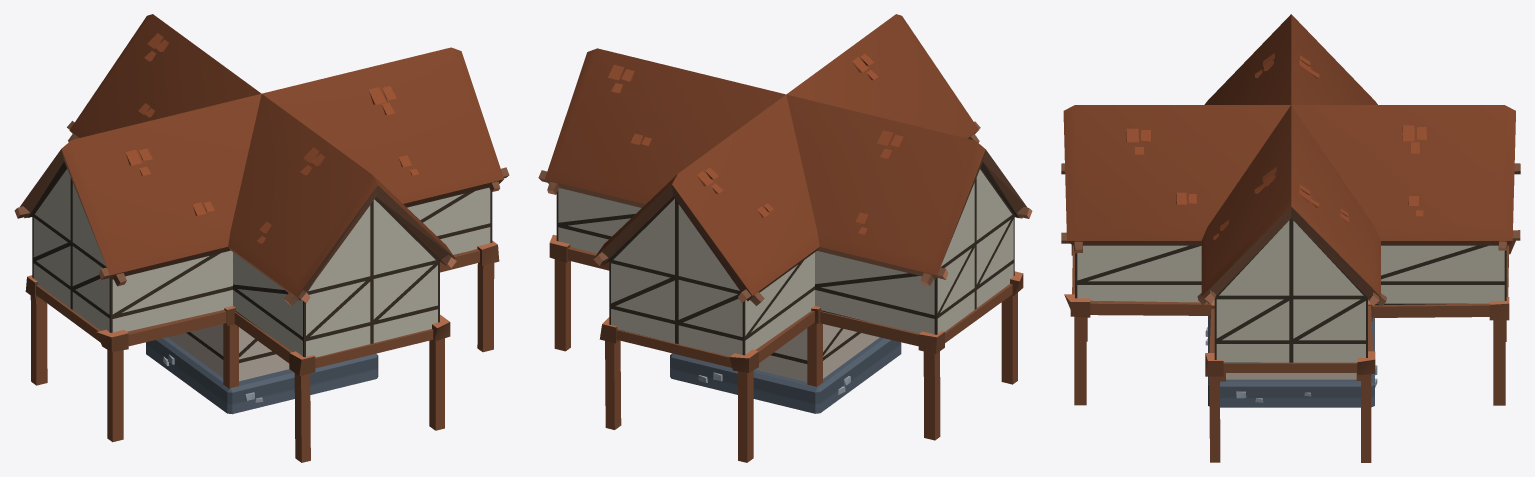
File: house-ver11.glb
3 renders of one model, left to right at view 1: azimuth 30°, elevation 25°; view 2: azimuth 150°, elevation 25°; view 3: azimuth 270°, elevation 25°, orthographic. The views are drawn at different scales.
Parts seen in each view (by area): view 1: House-ver11; view 2: House-ver11; view 3: House-ver11.
Boxes of the visible parts, <box> form: House-ver11: <box>14,14,509,462</box>; House-ver11: <box>538,14,1032,462</box>; House-ver11: <box>1061,14,1520,462</box>.
Bounding box in the file's own units: 13.65 × 8.74 × 13.65.
Materials: 1 (1 with a texture image).
